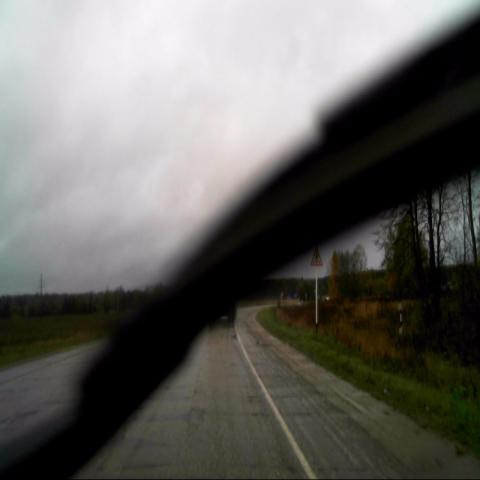1_22: (310, 246, 324, 268)
